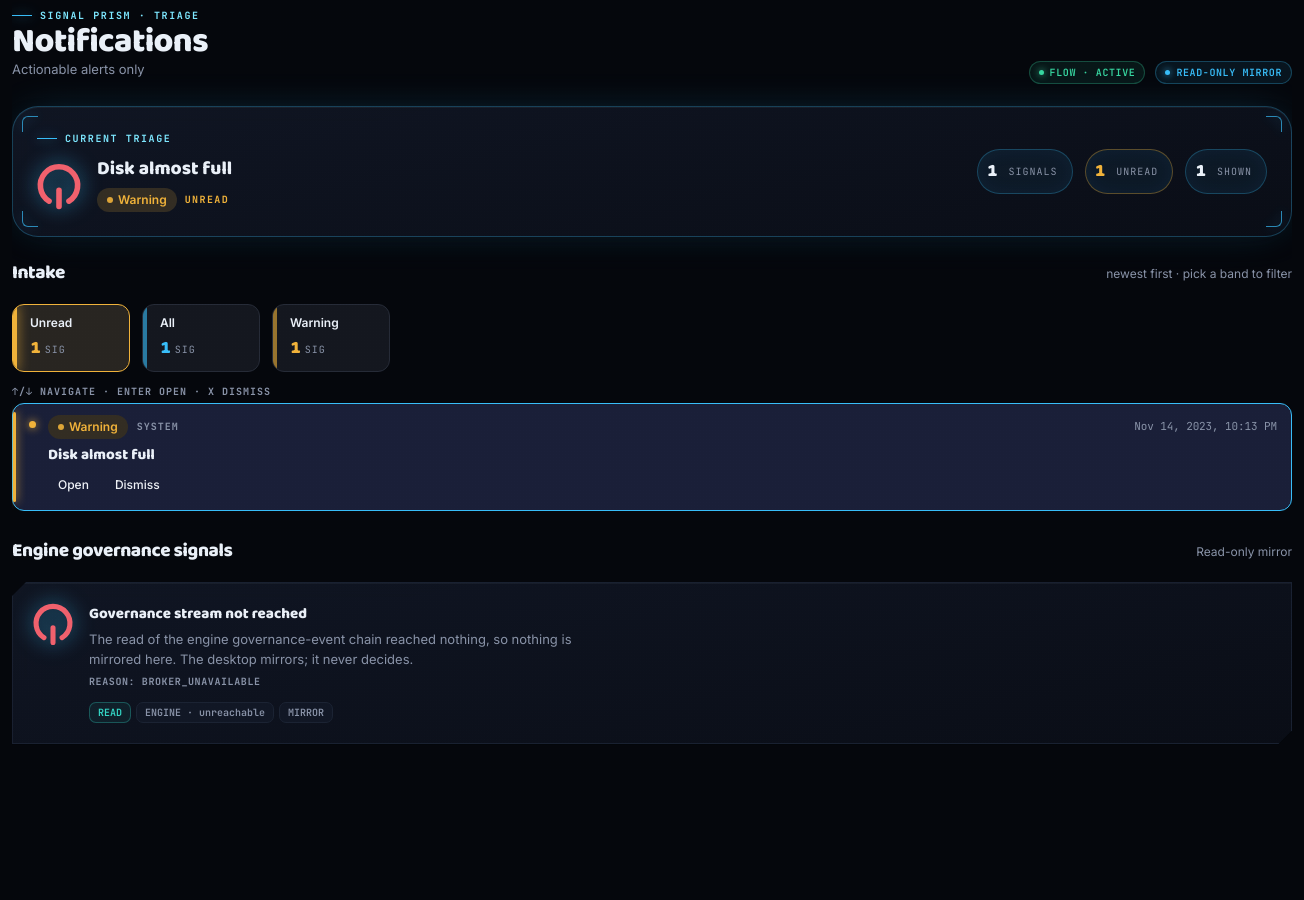
Notifications — a refused mark-as-read is said, not swallowed › shows the store's reason and keeps the signal listed
This screenshot has width=1304, height=900.
Expected: the text "Disk almost full" below "CURRENT TRIAGE" is shown, top-left (97, 154), bottom-right (232, 184)
Click the button "Dismiss" at (137, 485), box top-left (105, 471), bottom-right (170, 499)
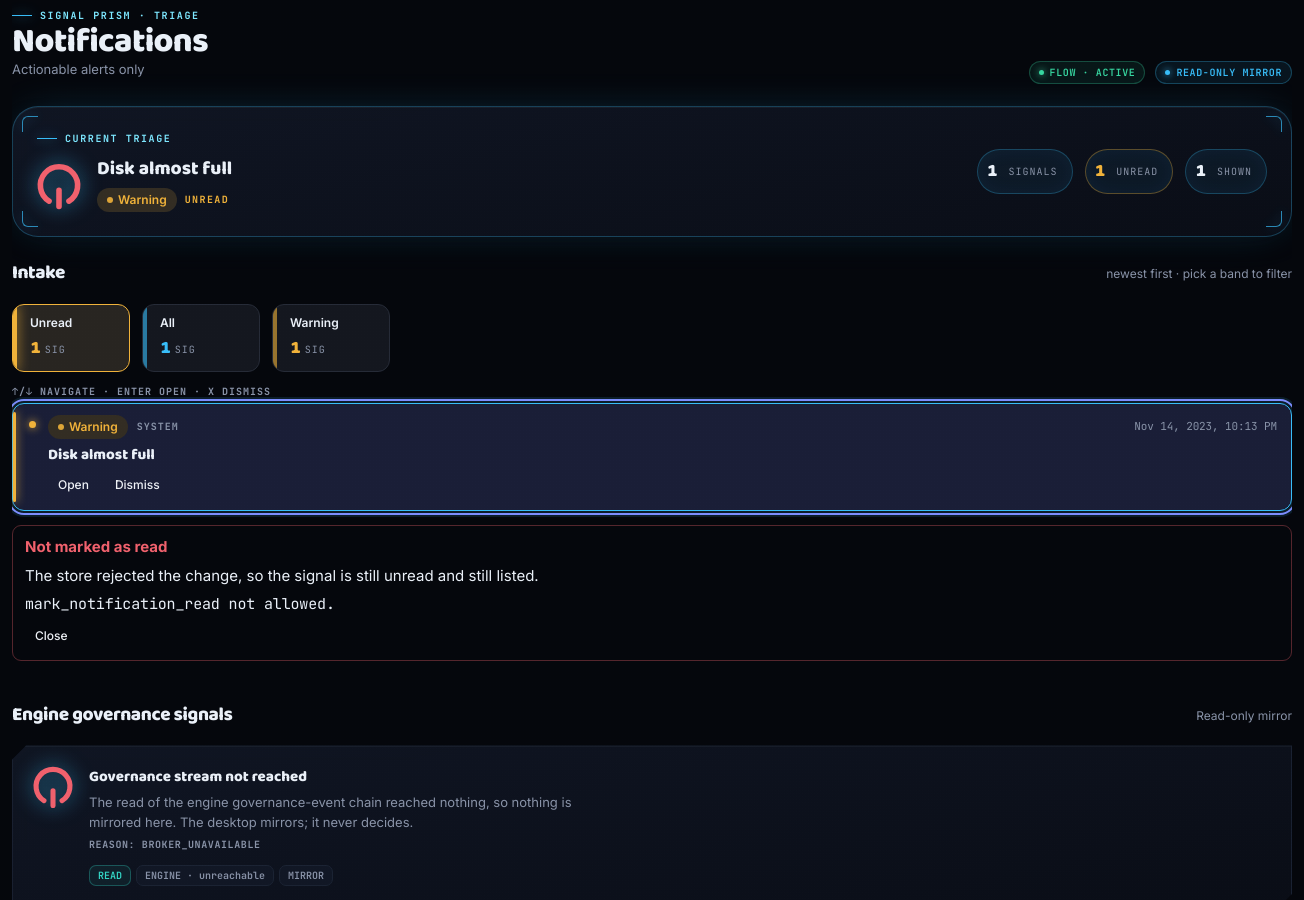
Expected: the text "Disk almost full" below "CURRENT TRIAGE" is shown, top-left (97, 154), bottom-right (232, 184)
Expected: the message that starts with "Not marked as read" is shown, top-left (25, 537), bottom-right (167, 556)
Expected: the message that starts with "Not marked as read" shows "mark_notification_read not allowed.", top-left (25, 594), bottom-right (335, 614)
